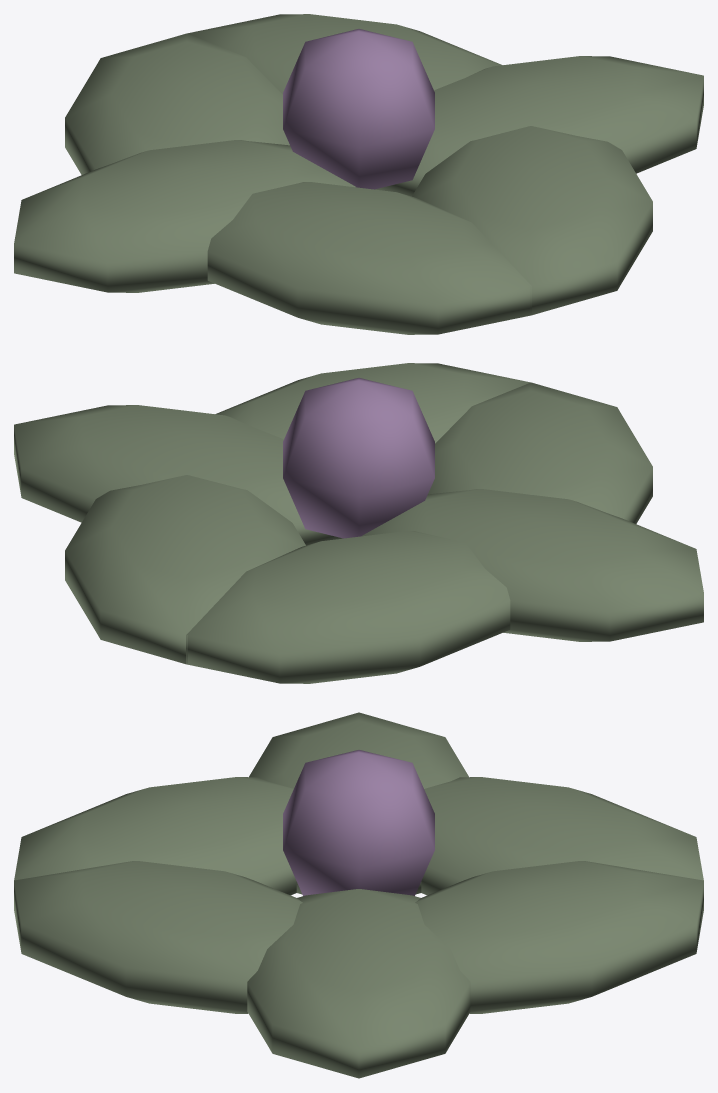
The model's file is bitterleaf.glb.
The picture shows the model from 3 angles, top to bottom: view 1: azimuth 30°, elevation 25°; view 2: azimuth 150°, elevation 25°; view 3: azimuth 270°, elevation 25°; orthographic projection.
Visible parts, largest first — view 1: Leaf0, Flower; view 2: Leaf0, Flower; view 3: Leaf0, Flower.
Part boxes in pixels (x1=…): Leaf0: x1=14, y1=14, x2=703, y2=334; Flower: x1=283, y1=29, x2=434, y2=189; Leaf0: x1=14, y1=363, x2=703, y2=683; Flower: x1=283, y1=378, x2=434, y2=538; Leaf0: x1=14, y1=712, x2=703, y2=1078; Flower: x1=283, y1=750, x2=434, y2=895.
Size of the model in its own units: 0.6824 by 0.18 by 0.591.
